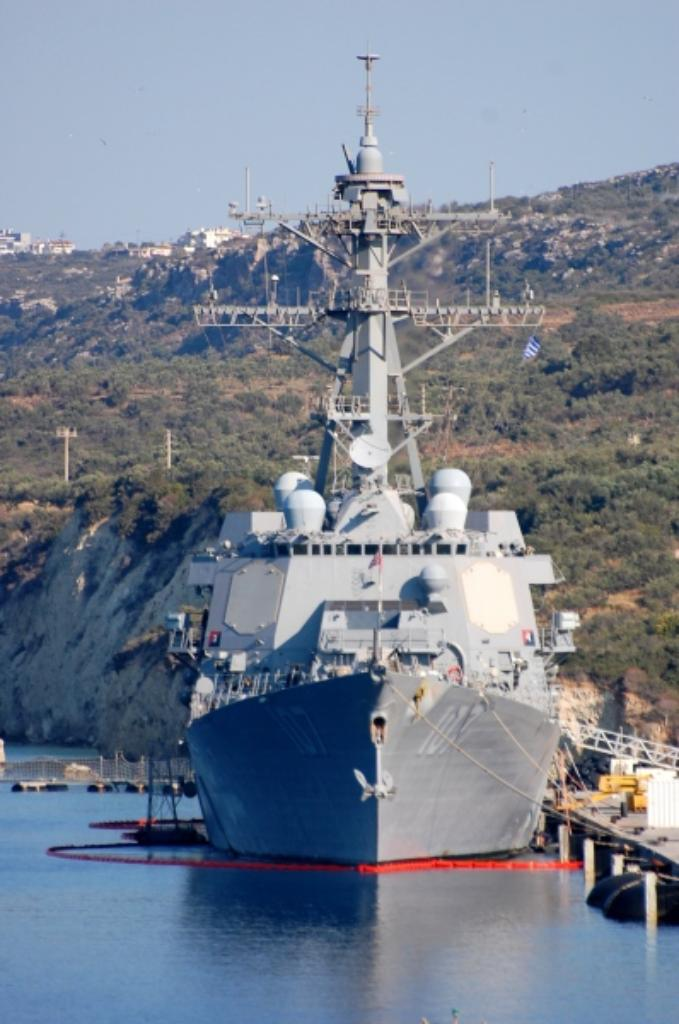Warship: (157, 50, 578, 870)
